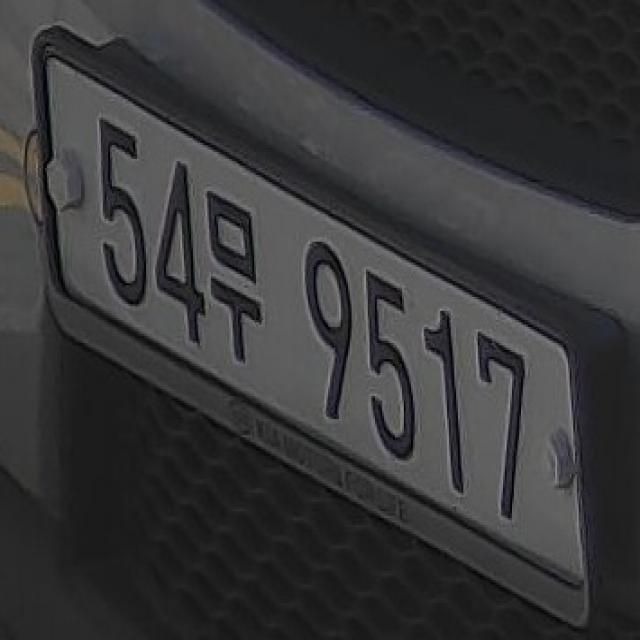1: (420, 288, 474, 497)
4: (151, 145, 204, 343)
5: (358, 274, 414, 458), (99, 120, 148, 318)
7: (472, 336, 538, 516)
9: (298, 228, 364, 430)
license_plate: (29, 25, 600, 636)
mu: (204, 188, 261, 370)
